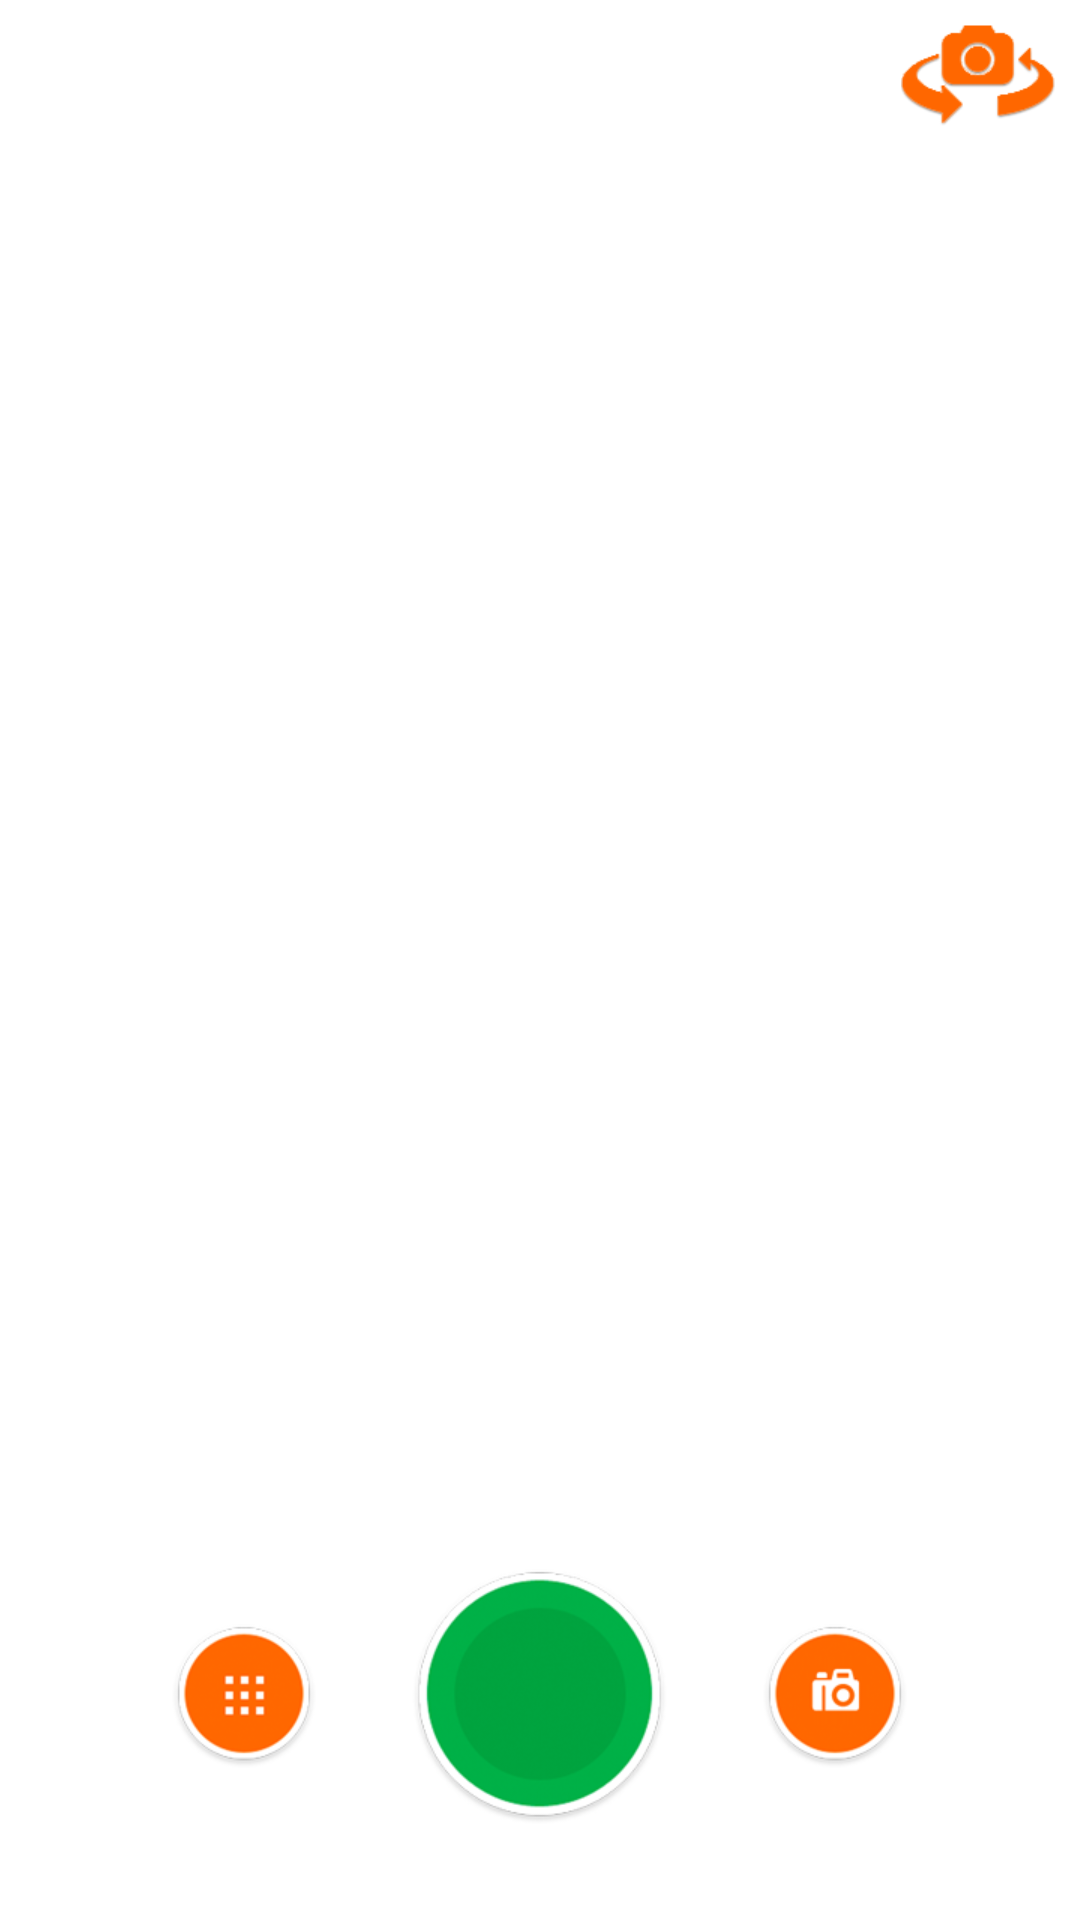

Where to tap for icons on this 1080*1920 app screen, as (x=x, y=y):
camera flip: (x=978, y=74)
gallery: (x=244, y=1694)
photo: (x=835, y=1694)
